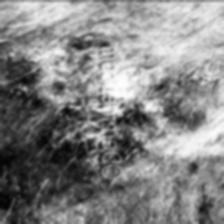Unclassified: (64, 62, 144, 110)
